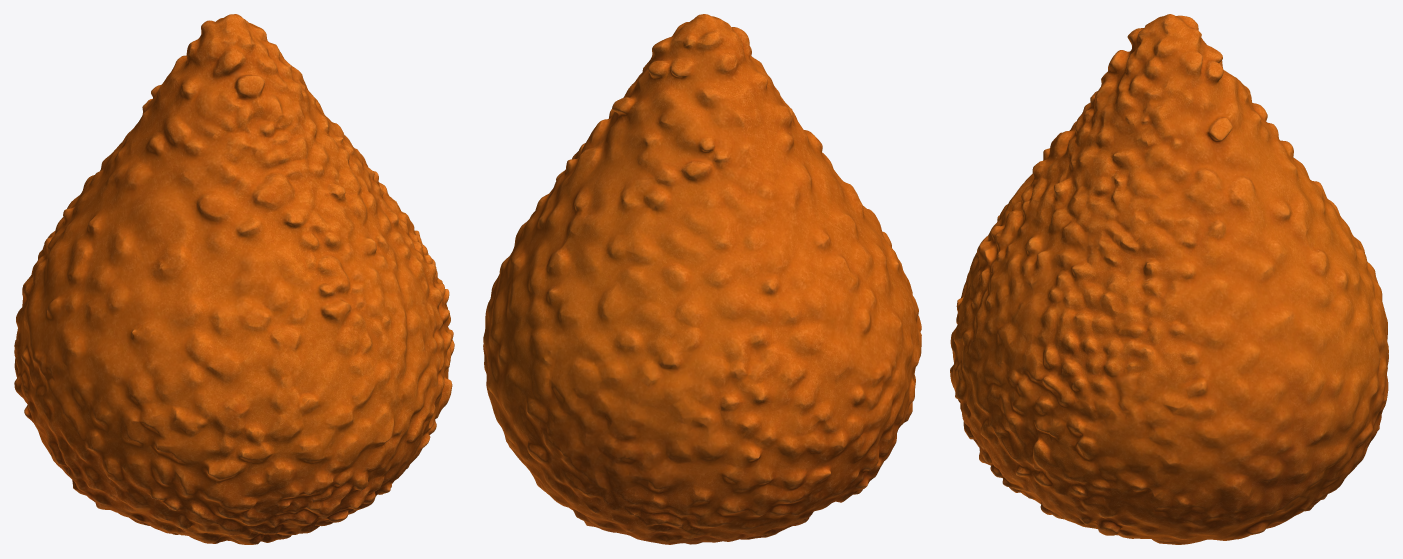
File: coxinha.glb
The picture shows the model from 3 angles, left to right: view 1: azimuth 30°, elevation 25°; view 2: azimuth 150°, elevation 25°; view 3: azimuth 270°, elevation 25°; orthographic projection.
Bounding box in the file's own units: 1.51 × 1.9 × 1.51.
Materials: 1 (1 with a texture image).
